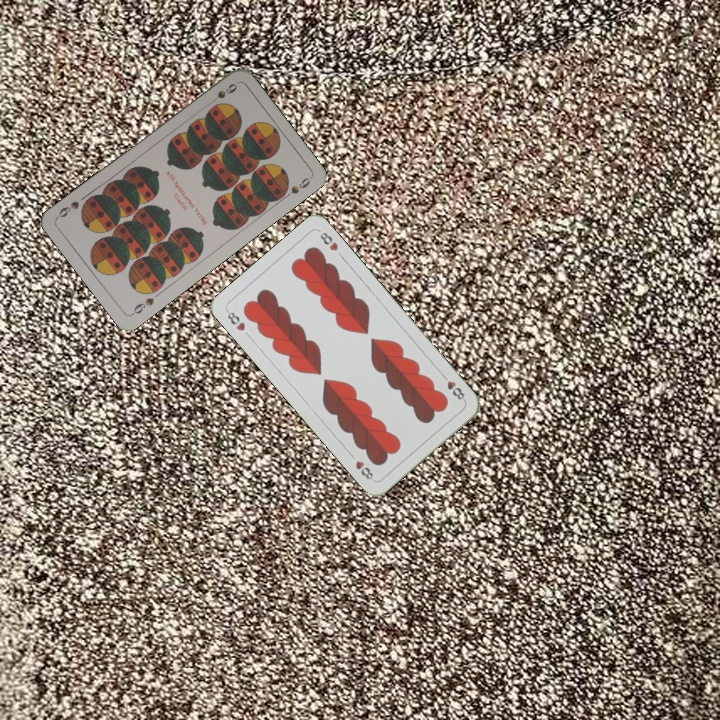H8: (437, 370, 468, 403), (222, 306, 248, 334)
S9: (128, 293, 156, 318), (213, 79, 240, 101)
